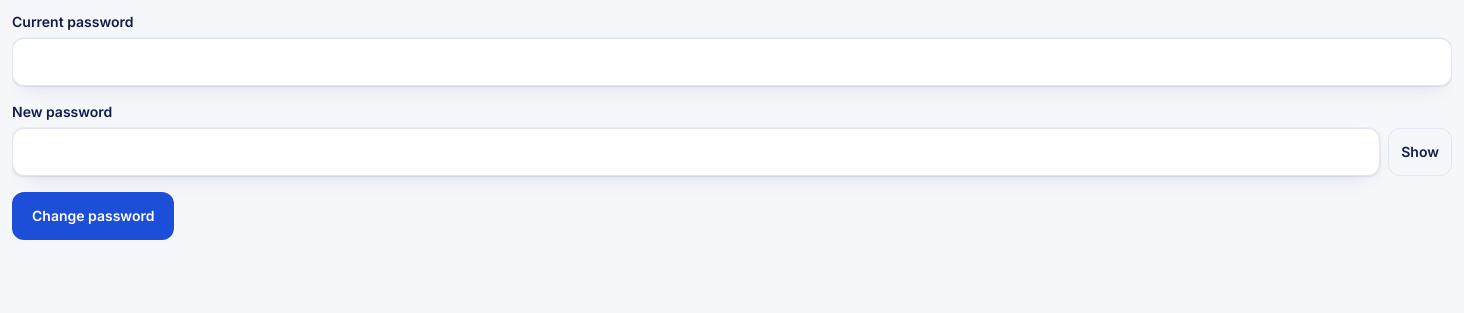
Test: ChangePasswordForm › announces a wrong current password
The image size is (1464, 313).
Click the button "Change password": (93, 216) [12,192,174,240]
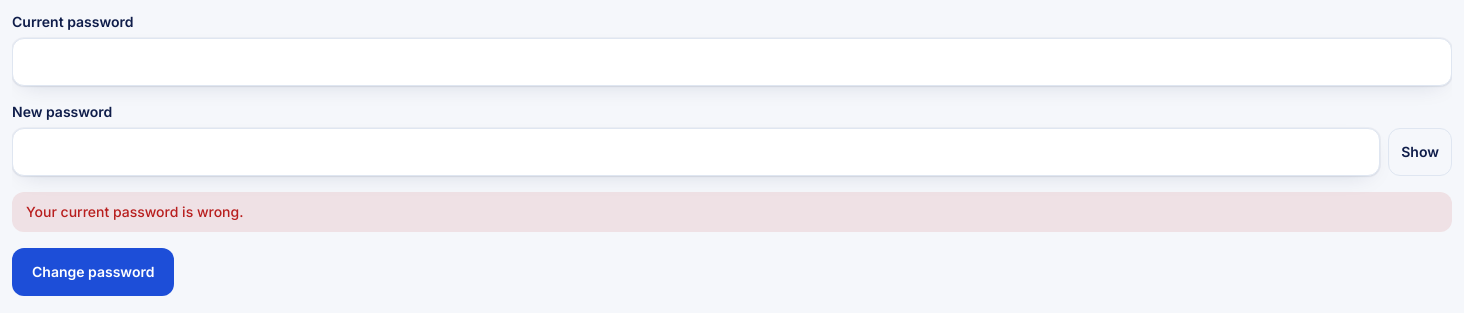
Expected: the message shows "current password is wrong", [26,203,244,220]
